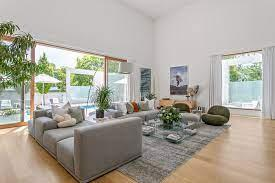chair: (205, 104, 231, 127), (171, 113, 202, 129), (170, 104, 189, 113)
door: (0, 39, 35, 127)
light: (118, 60, 133, 101)
sofa: (25, 102, 145, 183), (105, 98, 165, 121)
table: (156, 100, 195, 108)
